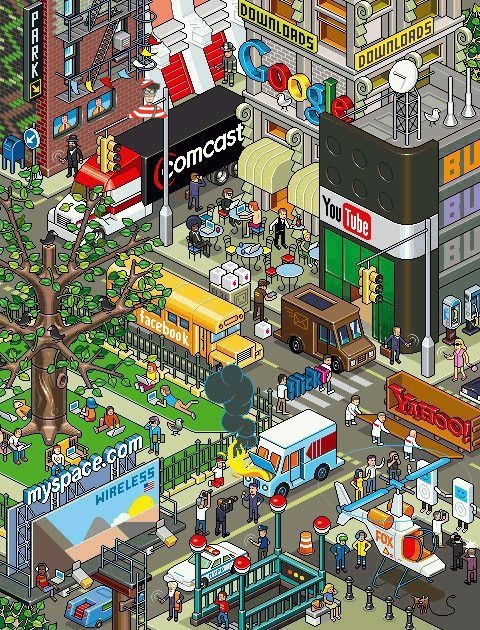waldo: (127, 77, 168, 118)
